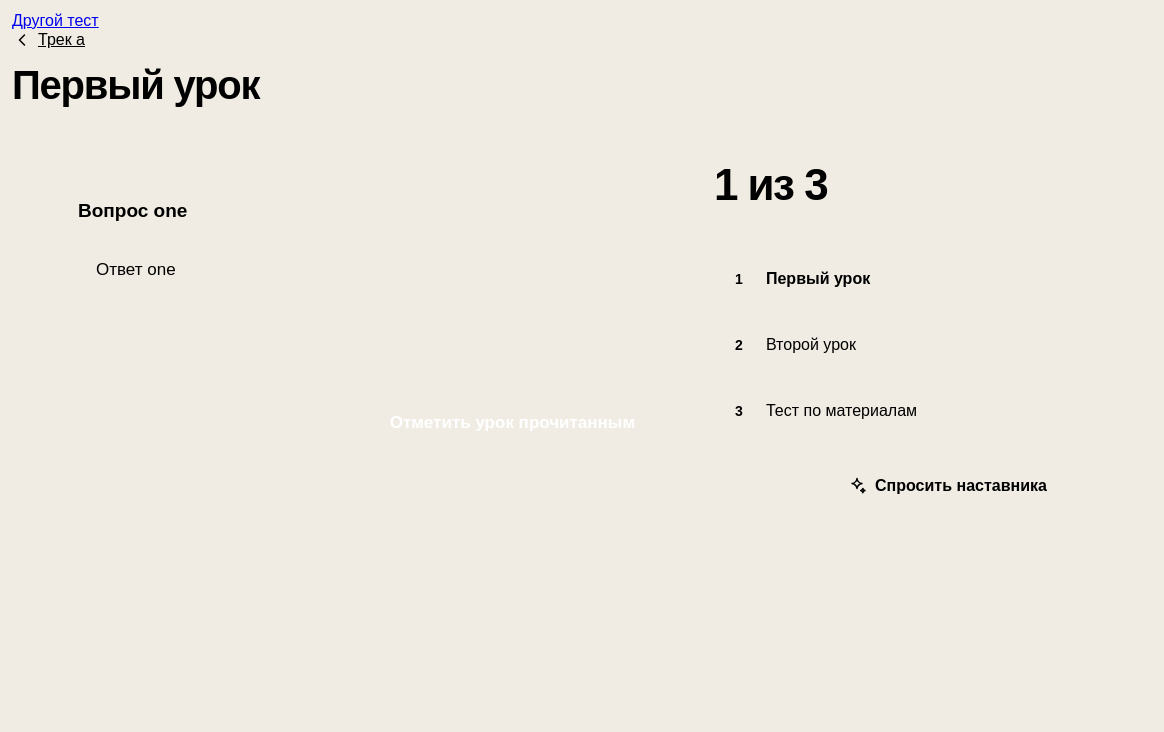
Test: resets quiz feedback and completion acknowledgement when opening another cached lesson
Click the button "Ответ one". click: x=136, y=269
box: [78, 240, 598, 298]
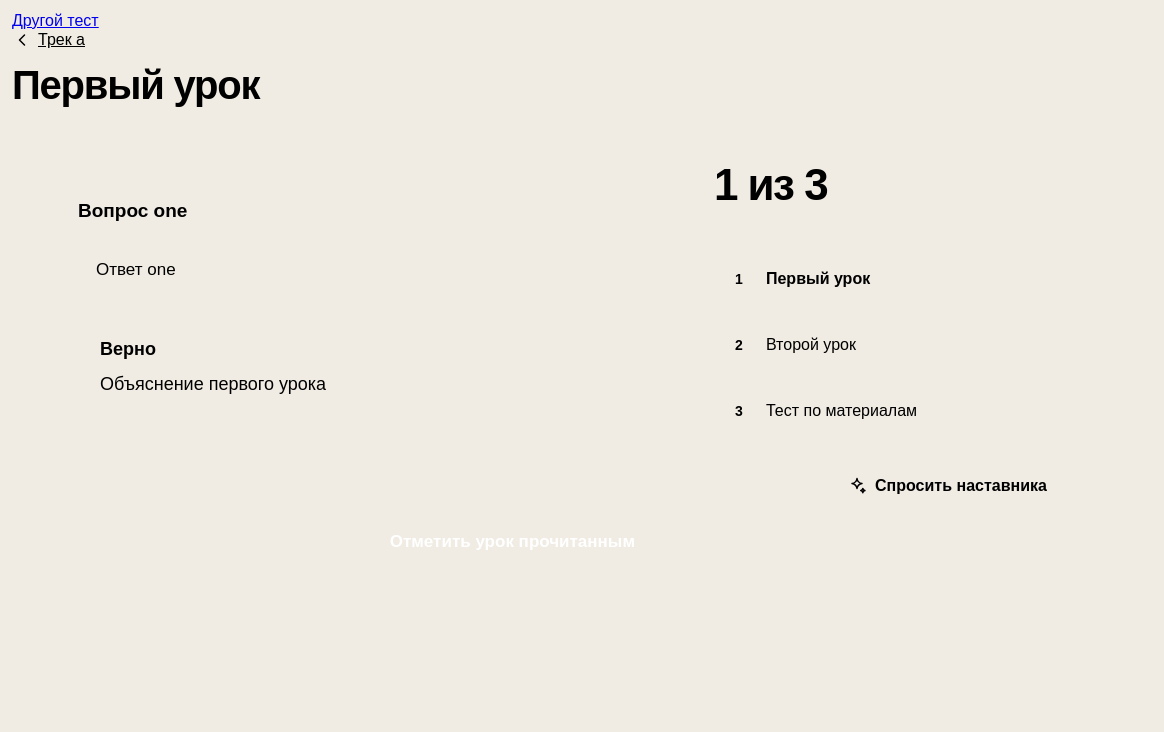
Check: the text "Объяснение первого урока" is shown, box [100, 374, 326, 394]
Click the button "Отметить урок прочитанным". click: x=512, y=542
box: [361, 514, 664, 570]
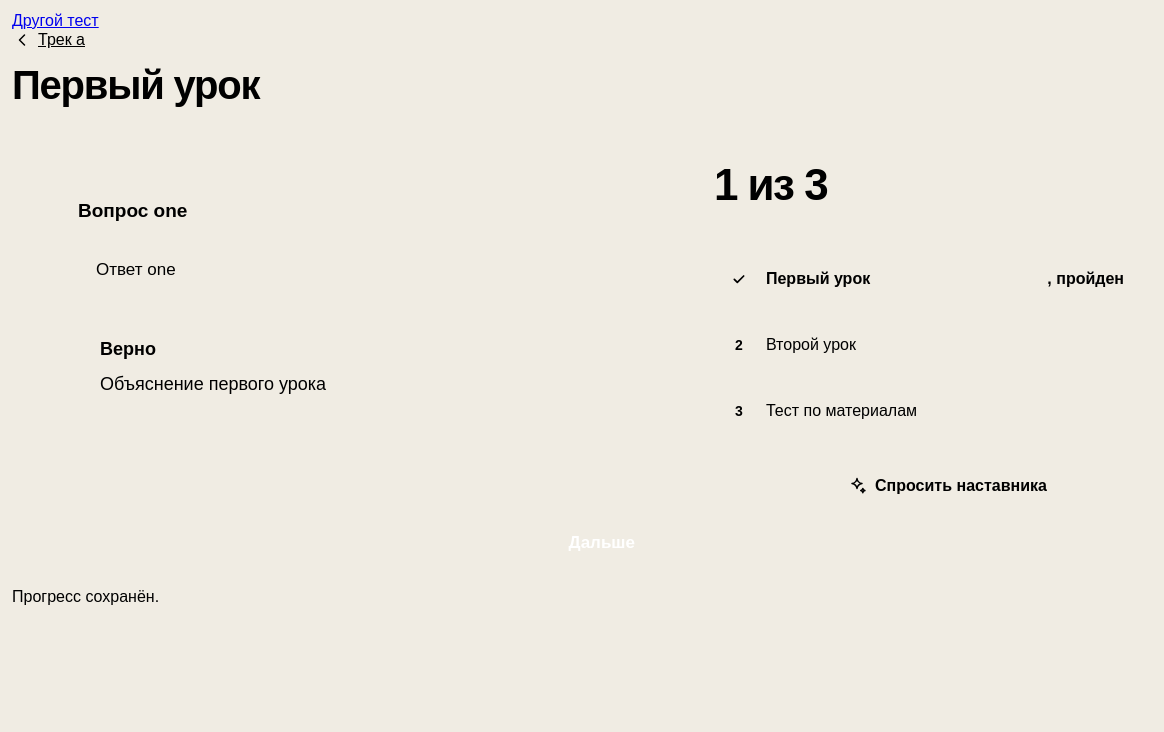
Check: the text "Прогресс сохранён." is shown, box [12, 588, 159, 605]
Click the link "2 Второй урок". click: x=796, y=345
box: [735, 336, 856, 353]
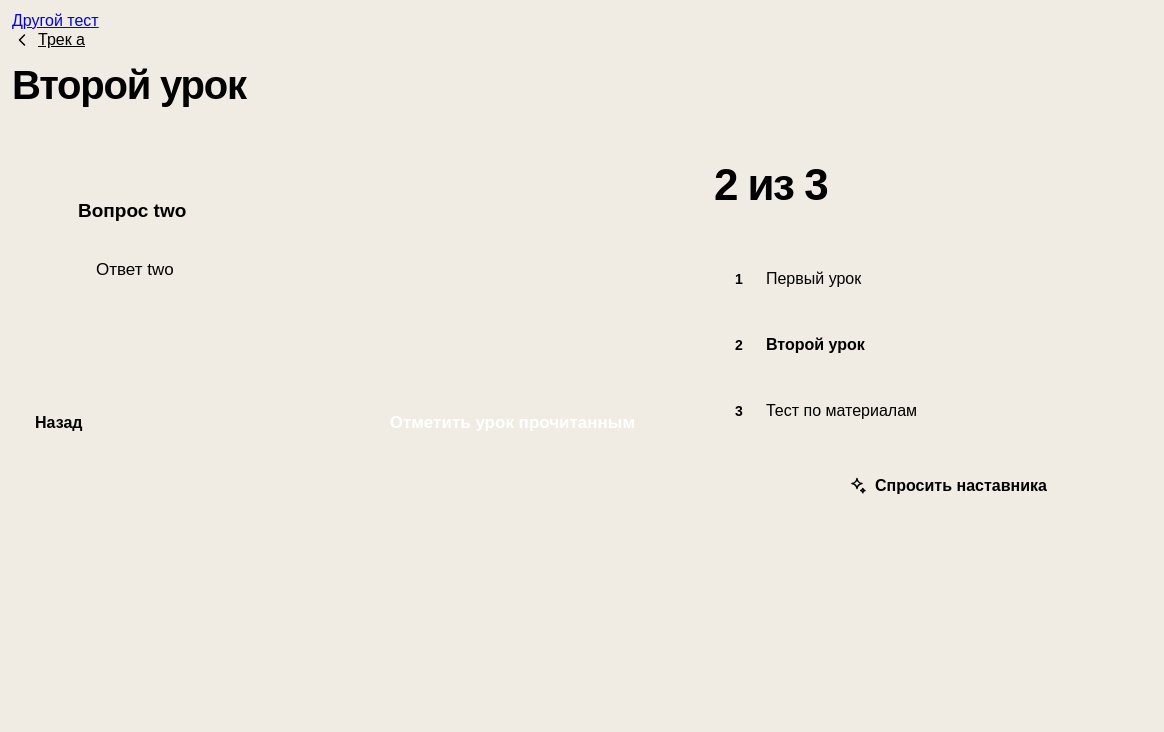
Check: the button "Ответ two" is enabled, box [78, 240, 598, 298]
Check: the text "Объяснение первого урока" is gone
Check: the text "Прогресс сохранён." is gone
